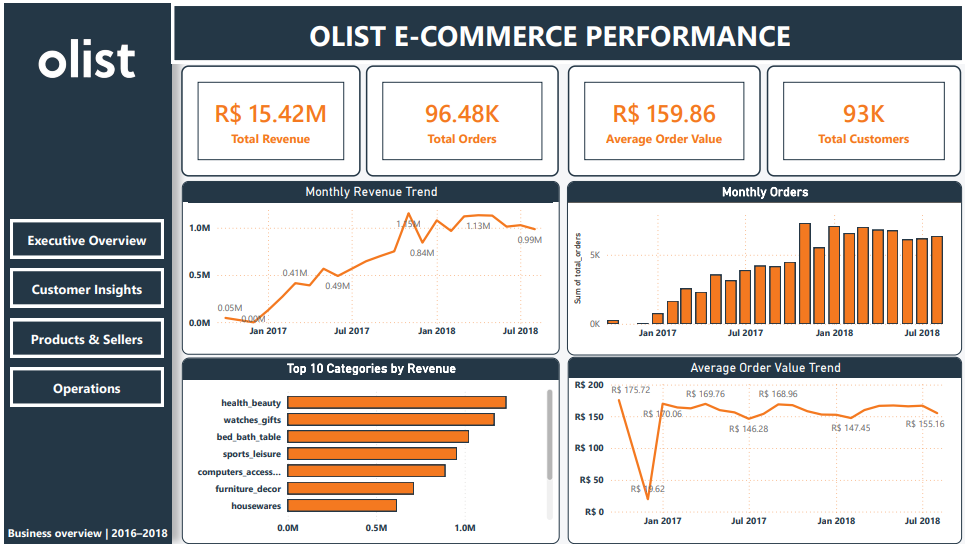

The page's visual inventory and layout, read from the dashboard file:
{"tool":"powerbi","page":{"name":"Executive Overview","canvas":[1280,720],"ordinal":0},"visuals":[{"type":"shape","box":[0,0,223.3,720],"z":0},{"type":"shape","box":[223.3,0,1056.7,80],"z":1000},{"type":"image","box":[23.3,0,175,146.7],"z":2000},{"type":"textbox","box":[175,11.7,1105,68.3],"z":3000},{"type":"textbox","box":[0,689.8,237.3,30.8],"z":4000},{"type":"actionButton","box":[8.3,288.3,205,51.7],"z":5000},{"type":"actionButton","box":[8.3,353.3,205,51.7],"z":6000},{"type":"actionButton","box":[8.3,420,205,51.7],"z":7000},{"type":"actionButton","box":[8.3,485,205,51.7],"z":8000},{"type":"cardVisual","fields":{"Data":["Measure Table.Total Revenue"]},"box":[236.3,83.4,239.1,147.3],"z":9000},{"type":"cardVisual","fields":{"Data":["Measure Table.Total Orders"]},"box":[482.3,83.4,257.1,147.3],"z":10000},{"type":"cardVisual","fields":{"Data":["Measure Table.Total Customers"]},"box":[1016.1,83.4,258.5,147.3],"z":11000},{"type":"cardVisual","fields":{"Data":["Measure Table.Average Order Value"]},"box":[750.6,83.4,257.1,147.3],"z":12000},{"type":"lineChart","title":"Monthly Revenue Trend","fields":{"Category":["analytics monthly_sales.sales_month"],"Y":["Sum(analytics monthly_sales.total_revenue)"]},"box":[236.7,236.7,503.3,231.7],"z":13000},{"type":"clusteredColumnChart","title":"Monthly Orders","fields":{"Category":["analytics monthly_sales.sales_month"],"Y":["Sum(analytics monthly_sales.total_orders)"]},"box":[749.8,237.3,525.8,231.4],"z":14000},{"type":"lineChart","title":"Average Order Value Trend","fields":{"Category":["analytics monthly_sales.sales_month"],"Y":["Measure Table.Average Order Value"]},"box":[751.3,471,524.3,249],"z":15000},{"type":"barChart","title":"Top 10 Categories by Revenue","fields":{"Category":["analytics category_performance.category_name"],"Y":["Sum(analytics category_performance.total_revenue)"]},"box":[236.7,471.7,503.3,248.3],"z":16000}]}

Visuals, with their boxes in screenshot pixels (x1, y1, x2, y2), scaled from the page's 1280x720 canvas onto the 968x549 screenshot:
shape: box(0, 0, 169, 548)
shape: box(169, 0, 967, 61)
image: box(18, 0, 150, 112)
textbox: box(132, 9, 967, 61)
textbox: box(0, 526, 179, 548)
actionButton: box(6, 220, 161, 259)
actionButton: box(6, 269, 161, 309)
actionButton: box(6, 320, 161, 360)
actionButton: box(6, 370, 161, 409)
cardVisual - Measure Table.Total Revenue: box(179, 64, 360, 176)
cardVisual - Measure Table.Total Orders: box(365, 64, 559, 176)
cardVisual - Measure Table.Total Customers: box(768, 64, 964, 176)
cardVisual - Measure Table.Average Order Value: box(568, 64, 762, 176)
"Monthly Revenue Trend" lineChart: box(179, 180, 560, 357)
"Monthly Orders" clusteredColumnChart: box(567, 181, 965, 357)
"Average Order Value Trend" lineChart: box(568, 359, 965, 548)
"Top 10 Categories by Revenue" barChart: box(179, 360, 560, 548)
